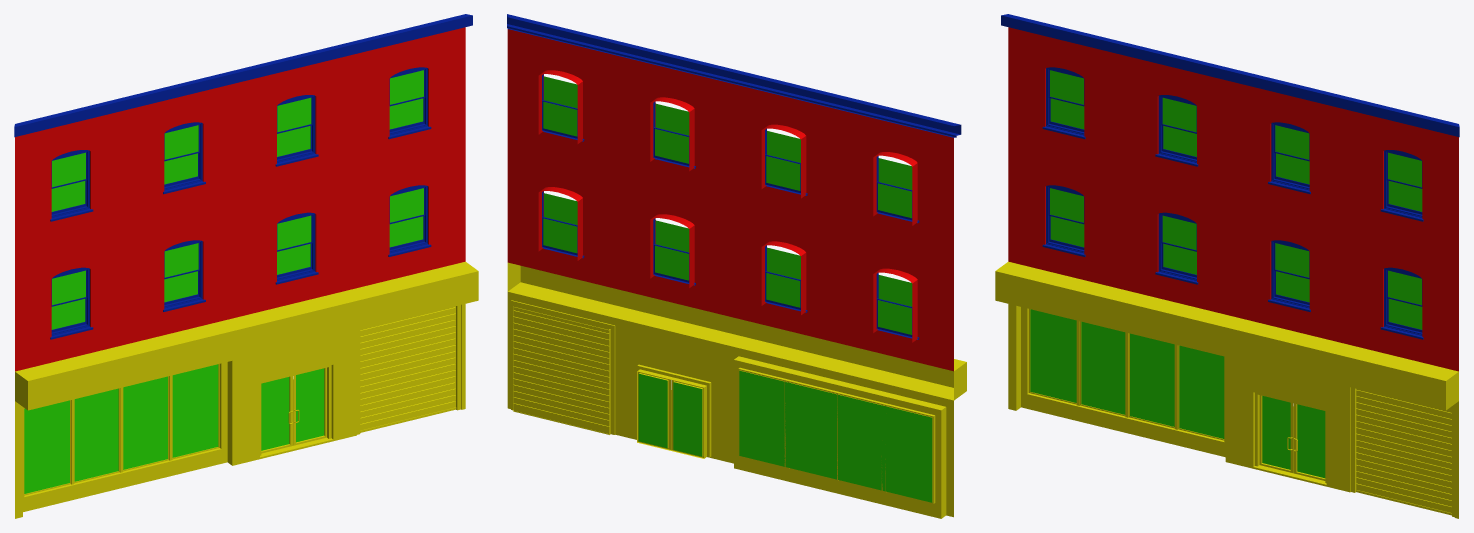
The model's file is MDL_U_B2_V1_Back.fbx.
3 renders of one model, left to right at view 1: azimuth 30°, elevation 25°; view 2: azimuth 150°, elevation 25°; view 3: azimuth 330°, elevation 25°, orthographic.
Visible parts, largest first — view 1: MDL_U_B2_V1_Back; view 2: MDL_U_B2_V1_Back; view 3: MDL_U_B2_V1_Back.
Boxes of the visible parts, bbox=[...] form: MDL_U_B2_V1_Back: bbox=[14, 14, 478, 518]; MDL_U_B2_V1_Back: bbox=[507, 14, 966, 518]; MDL_U_B2_V1_Back: bbox=[995, 14, 1459, 518].
Size of the model in its own units: 1628 by 1340 by 122.
